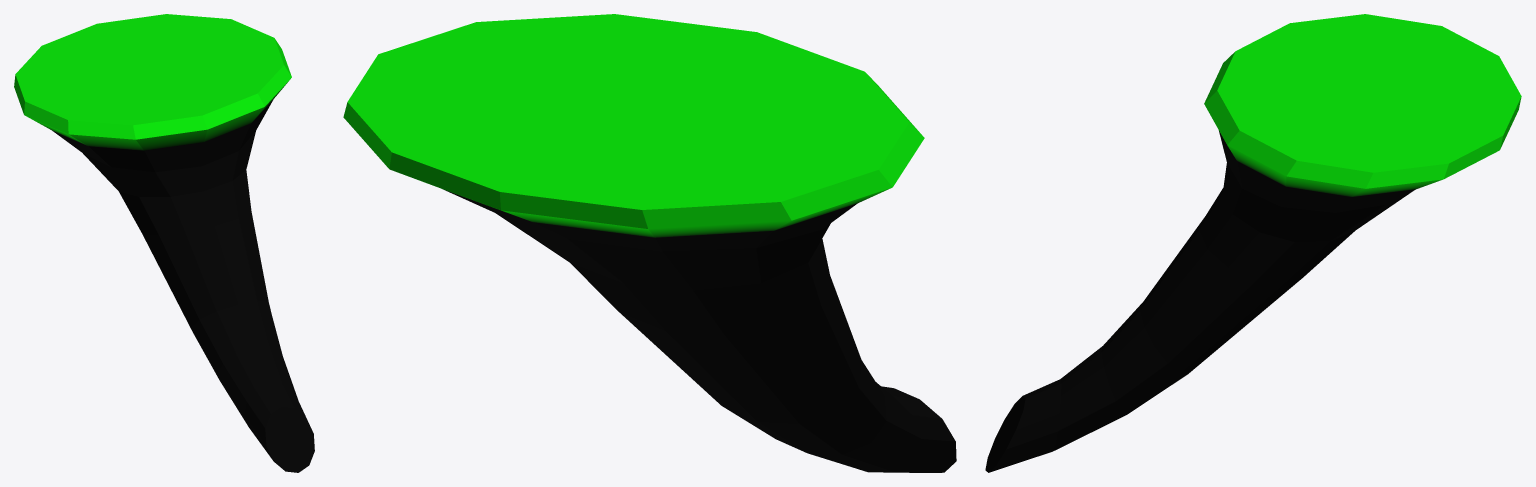
Rendered from TableCoral.fbx.
3 renders of one model, left to right at view 1: azimuth 30°, elevation 25°; view 2: azimuth 150°, elevation 25°; view 3: azimuth 270°, elevation 25°, orthographic. The views are drawn at different scales.
Visible parts, largest first — view 1: TableCoral2; view 2: TableCoral2; view 3: TableCoral2.
Part boxes in pixels (x1,y1,x2,y2): TableCoral2: [14, 14, 314, 472]; TableCoral2: [343, 14, 956, 472]; TableCoral2: [985, 14, 1521, 472].
Size of the model in its own units: 1.49 by 2.06 by 1.61.
